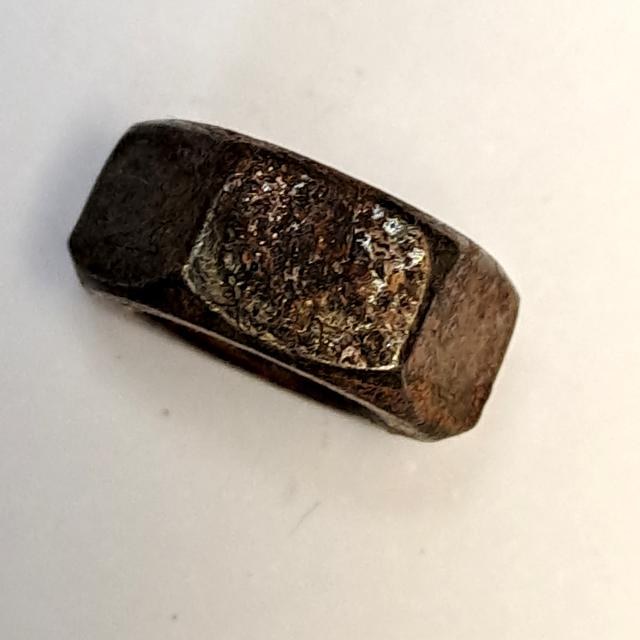Side_Rust: (38, 87, 538, 467)
